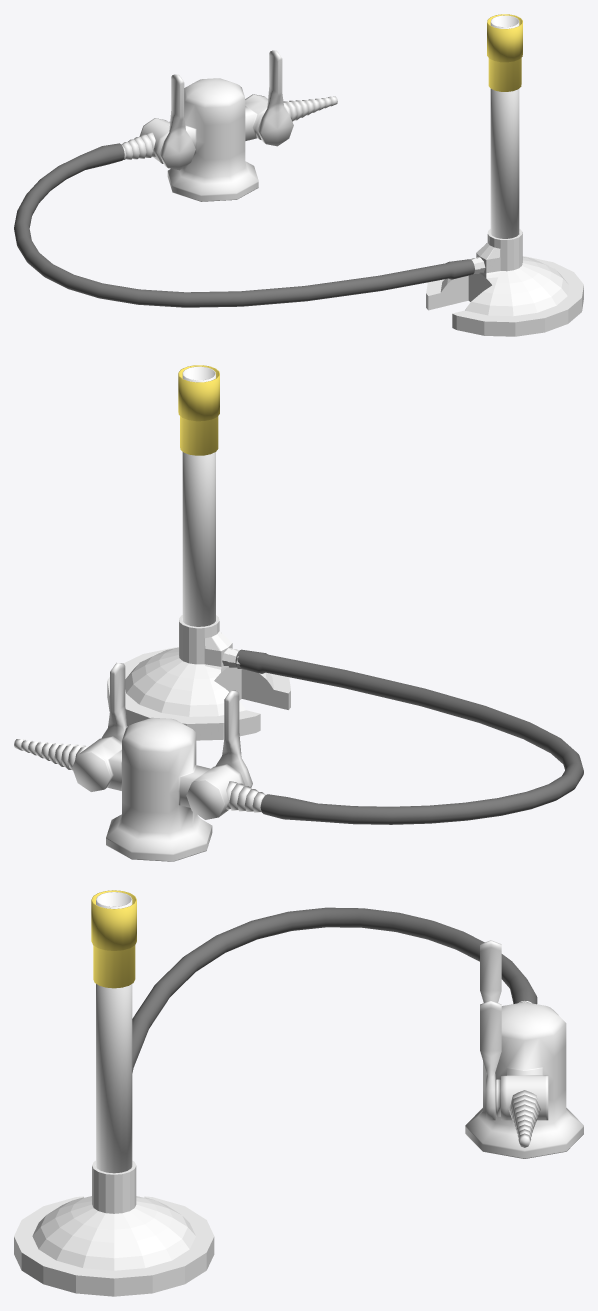
Rendered from bunsenburner.gltf.
3 views of the same model, one above another, from view 1: azimuth 30°, elevation 25°; view 2: azimuth 150°, elevation 25°; view 3: azimuth 270°, elevation 25° (orthographic). The views are drawn at different scales.
Parts seen in each view (by area): view 1: bunsenbase.001, NurbsCurve.001, base.043, bunsenstem.001, bunsentop.001, bunsenlefthandle.001, base.030, base.042, base.022; view 2: base.043, NurbsCurve.001, bunsenbase.001, bunsenstem.001, bunsentop.001, bunsenlefthandle.001, base.030, base.042, base.022; view 3: bunsenbase.001, base.043, NurbsCurve.001, bunsenstem.001, bunsentop.001, base.030, bunsenlefthandle.001, base.042.
Boxes of the visible parts, x1,y1,x2,y2 form: bunsenbase.001: (426,229,583,336); NurbsCurve.001: (14,143,474,307); base.043: (139,78,267,201); bunsenstem.001: (490,15,519,238); bunsentop.001: (487,14,522,91); bunsenlefthandle.001: (159,74,195,170); base.030: (257,50,293,146); base.042: (283,96,337,121); base.022: (121,132,155,159); base.043: (72,717,245,861); NurbsCurve.001: (235,649,583,824); bunsenbase.001: (107,615,290,740); bunsenstem.001: (182,366,215,626); bunsentop.001: (178,365,219,455); bunsenlefthandle.001: (216,690,252,787); base.030: (102,662,127,741); base.042: (14,739,88,770); base.022: (226,781,265,812); bunsenbase.001: (14,1160,214,1296); base.043: (465,1002,583,1158); NurbsCurve.001: (132,907,537,1072); bunsenstem.001: (96,892,132,1173); bunsentop.001: (91,890,136,988); base.030: (480,1000,501,1120); bunsenlefthandle.001: (480,940,501,1002); base.042: (508,1090,540,1147).
Bounding box in the file's own units: 6.72 × 3.91 × 5.69.
